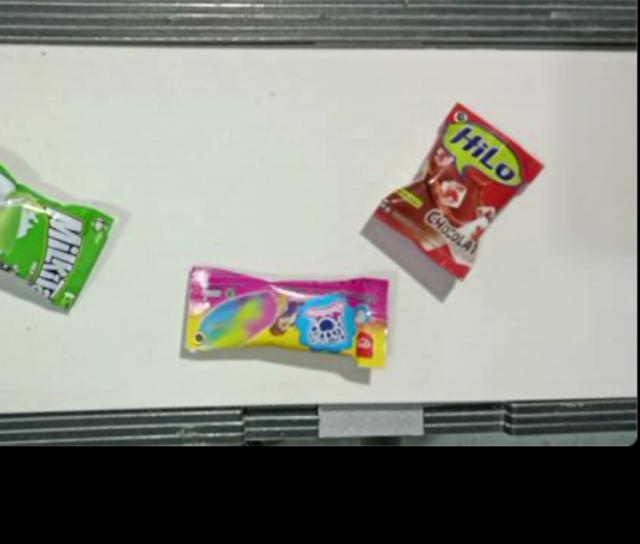Plastik: (373, 103, 545, 281), (186, 265, 389, 368), (0, 160, 116, 317), (36, 127, 36, 128)
